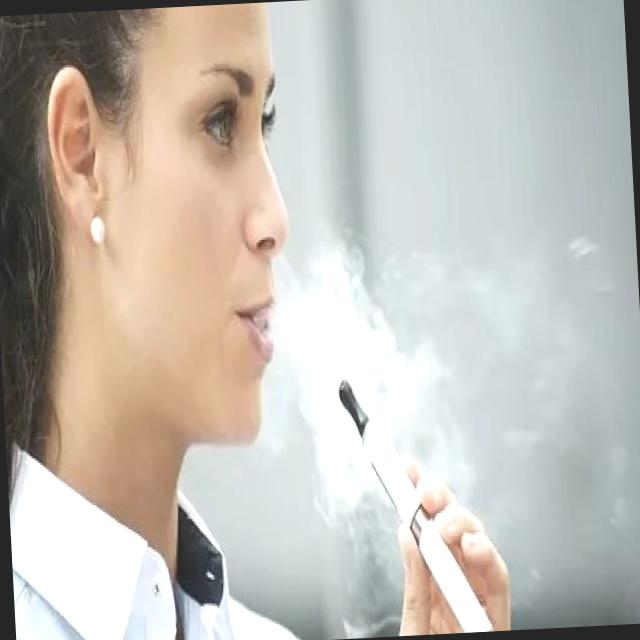cigarette: (333, 366, 494, 639)
